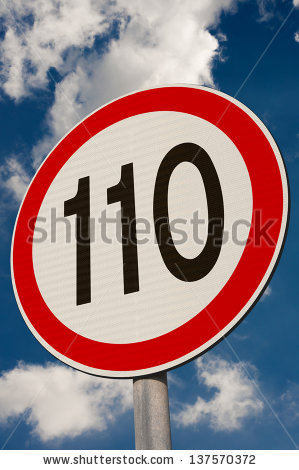Speed_limit_110km: (9, 85, 290, 378)
